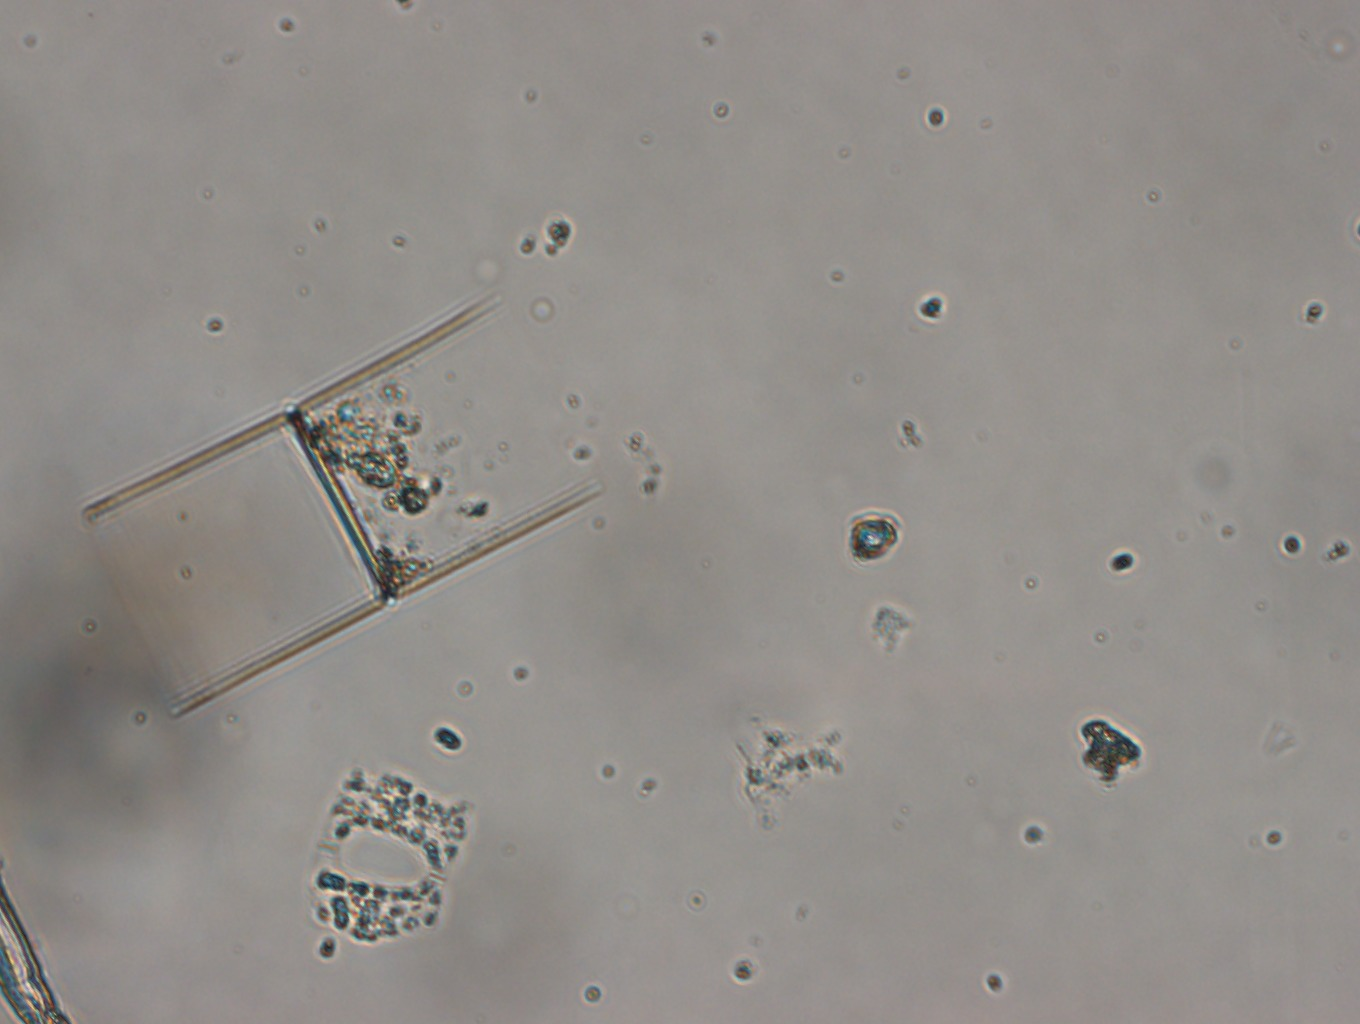guinardia flaccida: (67, 297, 614, 716)
